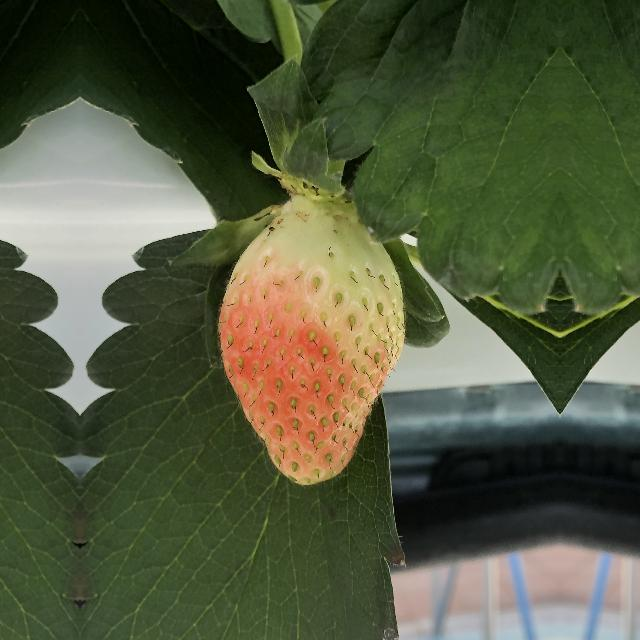Health_75: (214, 196, 408, 488)
